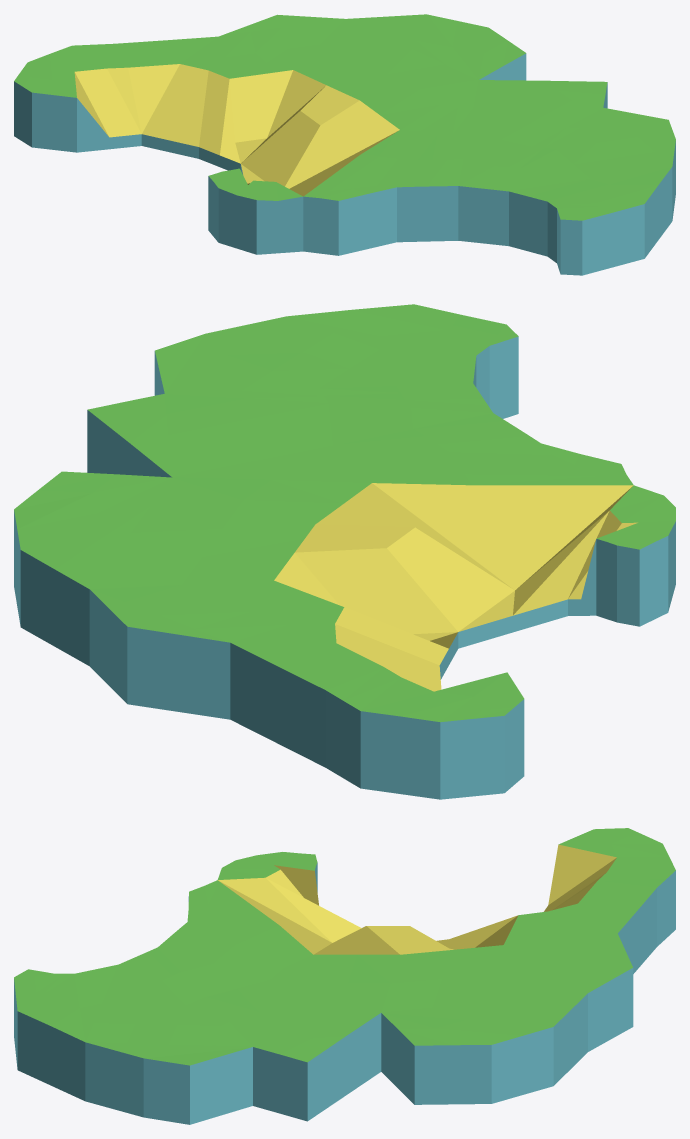
Rendered from island.glb.
The picture shows the model from 3 angles, top to bottom: view 1: azimuth 30°, elevation 25°; view 2: azimuth 150°, elevation 25°; view 3: azimuth 270°, elevation 25°; orthographic projection. The views are drawn at different scales.
Parts seen in each view (by area): view 1: Island; view 2: Island; view 3: Island.
Boxes of the visible parts, left/top/right/bottom form: Island: left=14, top=14, right=675, bottom=275; Island: left=14, top=304, right=675, bottom=799; Island: left=14, top=828, right=675, bottom=1124.
Bounding box in the file's own units: 43.23 × 5.05 × 50.91.
